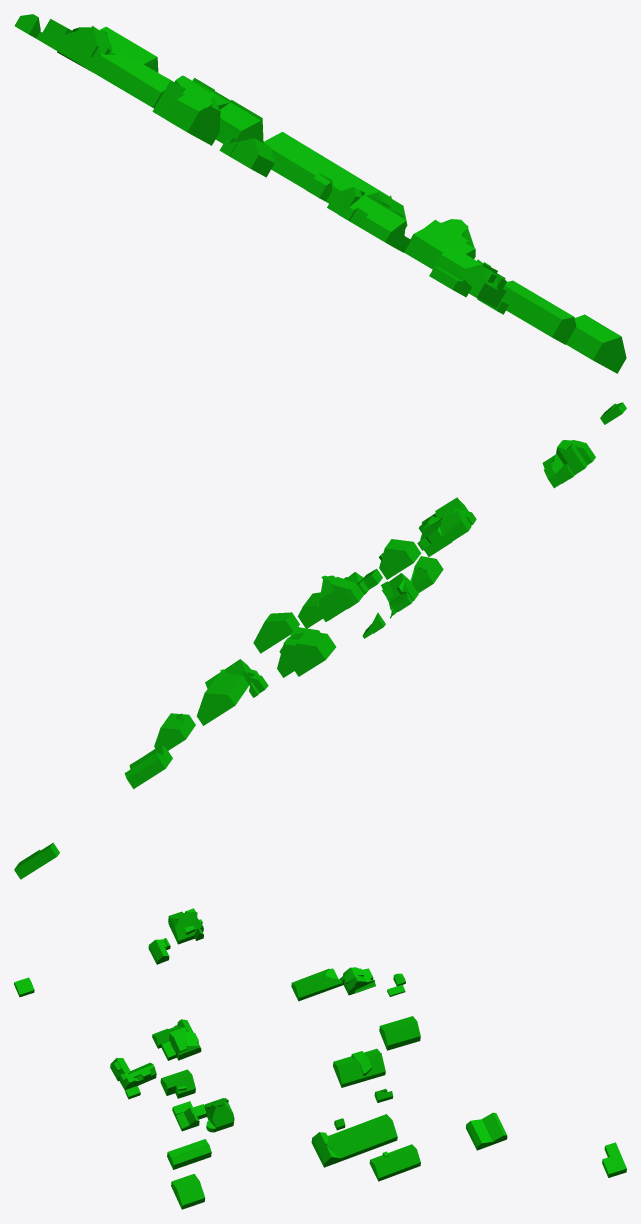
3 views of the same model, one above another, from view 1: azimuth 30°, elevation 25°; view 2: azimuth 150°, elevation 25°; view 3: azimuth 270°, elevation 25° (orthographic). The views are drawn at different scales.
Parts seen in each view (by area): view 1: mesh; view 2: mesh; view 3: mesh.
Boxes of the visible parts, x1,y1,x2,y2 form: mesh: (14, 14, 626, 373); mesh: (14, 402, 626, 879); mesh: (14, 908, 626, 1209).
Bounding box in the file's own units: 98.95 × 79.75 × 227.
